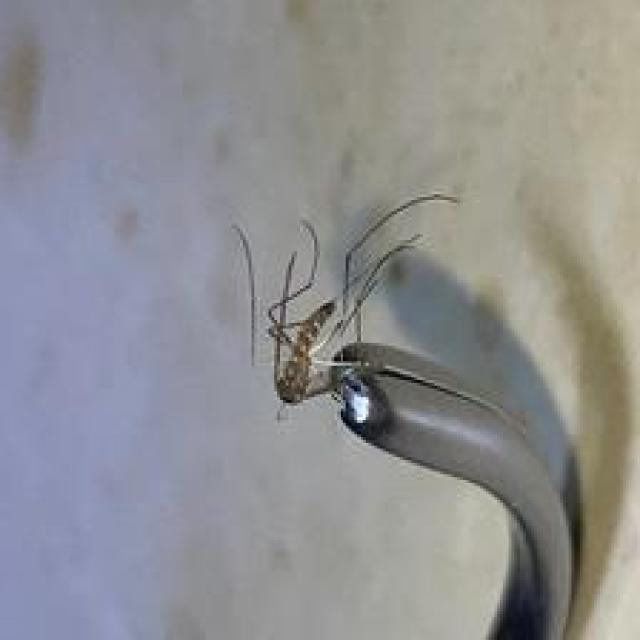Culex: (228, 188, 585, 640)
